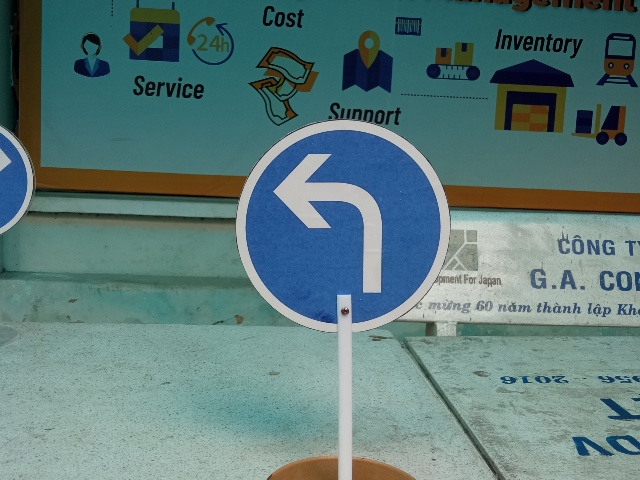Left_Sign: (236, 120, 451, 333)
Right_Sign: (0, 122, 35, 235)
